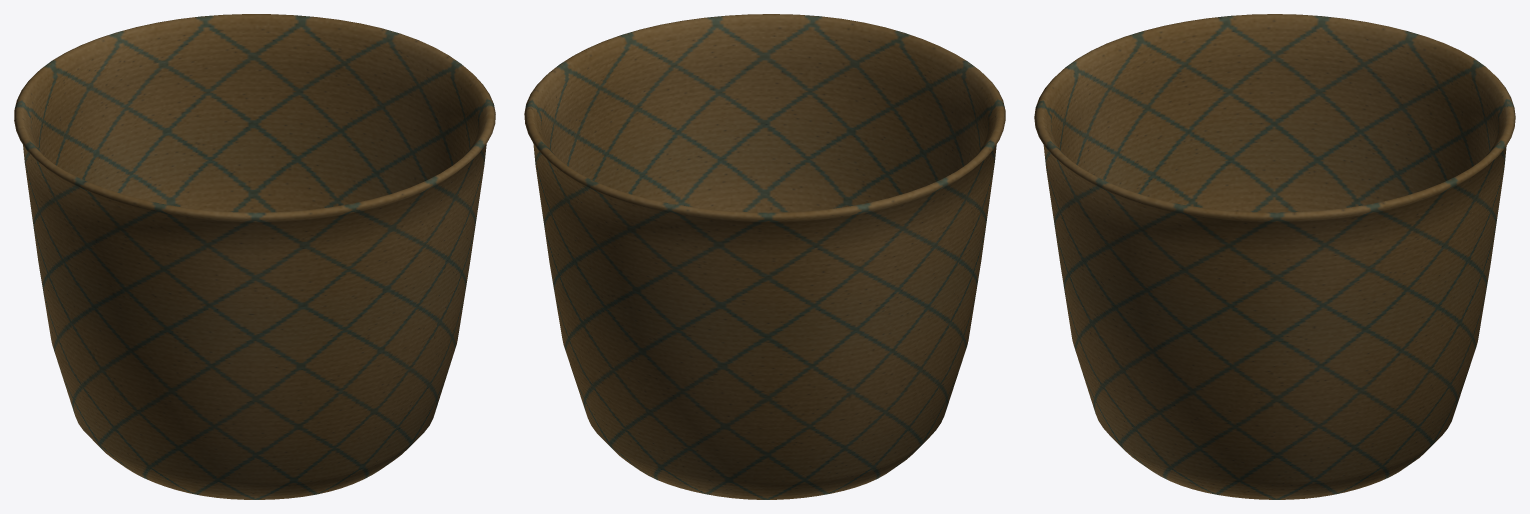
The model's file is B075HWDSZ1.glb.
3 renders of one model, left to right at view 1: azimuth 30°, elevation 25°; view 2: azimuth 150°, elevation 25°; view 3: azimuth 270°, elevation 25°, orthographic.
Visible parts, largest first — view 1: planter 1; view 2: planter 1; view 3: planter 1.
Part boxes in pixels (bbox=[...]): planter 1: bbox=[14, 14, 495, 499]; planter 1: bbox=[524, 14, 1005, 499]; planter 1: bbox=[1034, 14, 1515, 499].
Size of the model in its own units: 1.36 by 1.02 by 1.36.
Materials: 2 (1 with a texture image).
